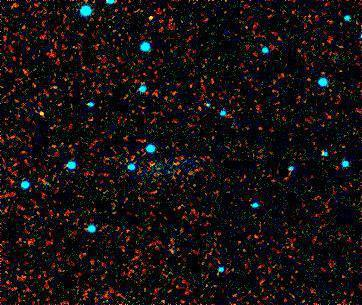star: (26, 100, 56, 130)
